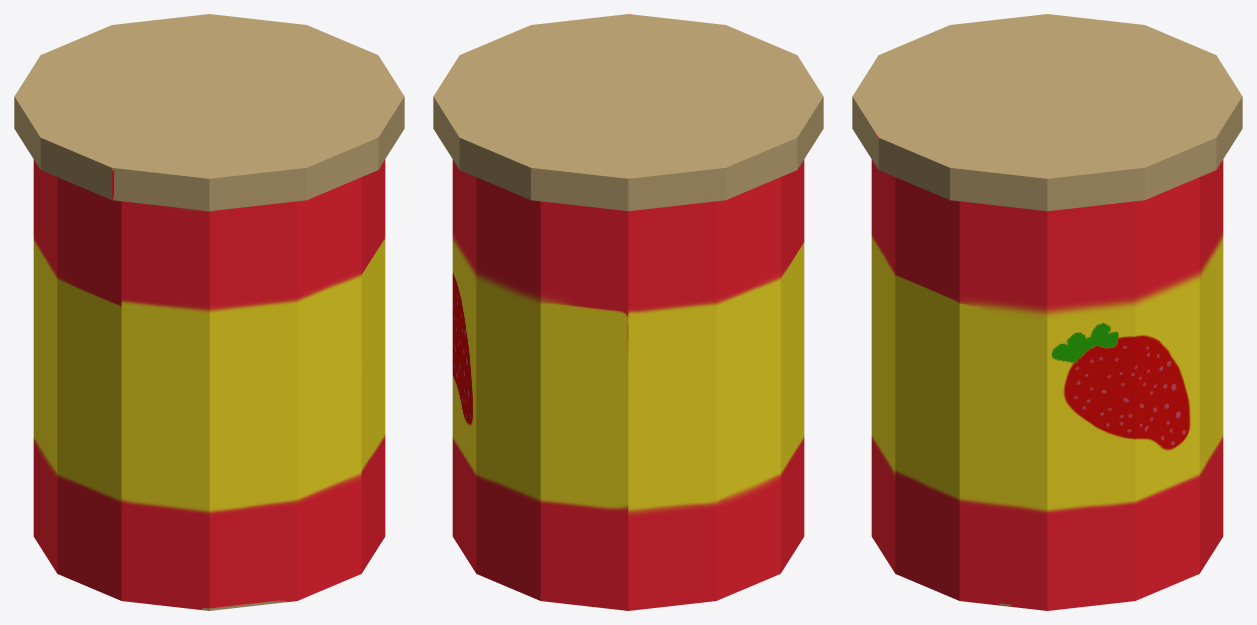
The model's file is Kavanoz.fbx.
3 renders of one model, left to right at view 1: azimuth 30°, elevation 25°; view 2: azimuth 150°, elevation 25°; view 3: azimuth 270°, elevation 25°, orthographic.
Parts seen in each view (by area): view 1: Cylinder.038; view 2: Cylinder.038; view 3: Cylinder.038.
Boxes of the visible parts, box(x1,y1,x2,y2) form: Cylinder.038: box(14, 14, 404, 610); Cylinder.038: box(433, 14, 823, 610); Cylinder.038: box(852, 14, 1242, 610).
Size of the model in its own units: 54.91 by 68.38 by 54.91.
1 material, 1 textured.
